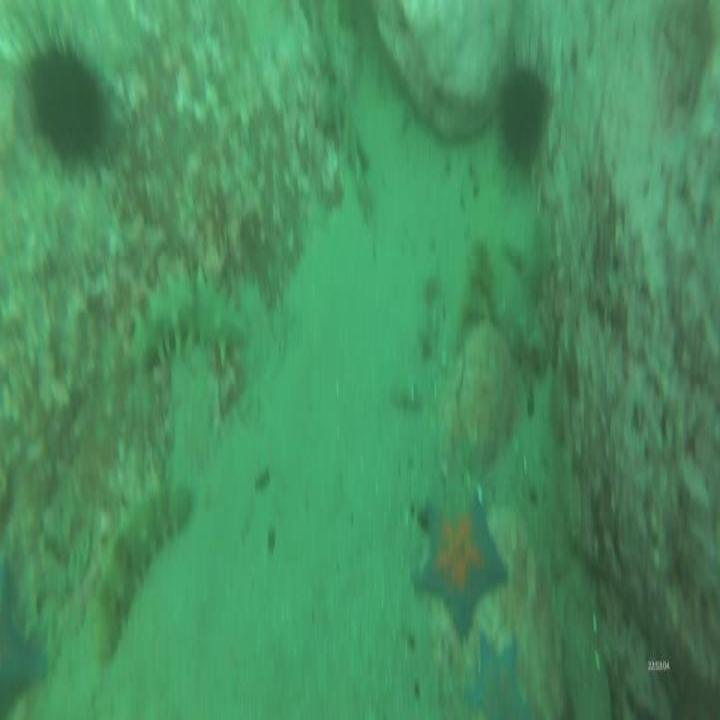echinus: (24, 46, 110, 156), (499, 68, 547, 164)
holothurian: (96, 476, 192, 666), (126, 283, 253, 357)
starfish: (412, 492, 507, 636), (459, 636, 527, 716)
